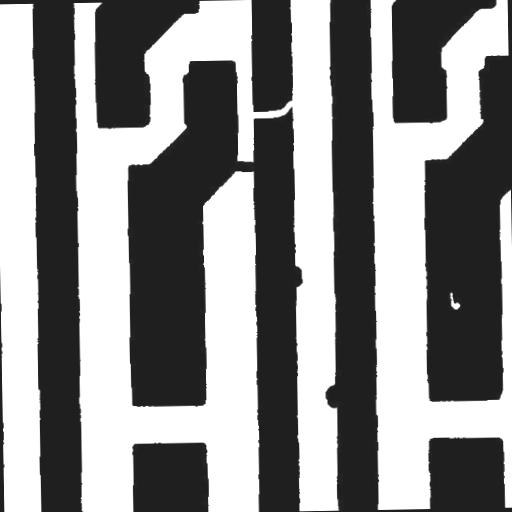open: (242, 92, 301, 126)
pin-hole: (442, 284, 468, 316)
short: (220, 152, 264, 180)
spur: (317, 375, 350, 416), (282, 258, 310, 294)
